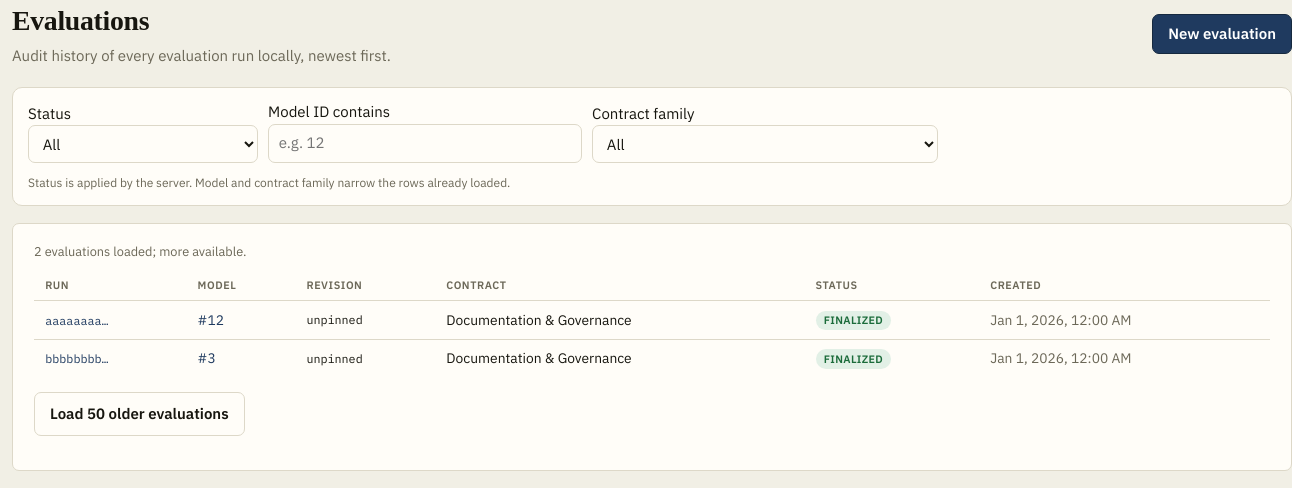
client filters say they cover loaded rows only, and can be cleared
The width and height of the screenshot is (1292, 488).
Expected: the text "2 evaluations loaded; more available." is shown, [34, 243, 246, 260]
Type "99" into the field labelled "Model ID contains" at (425, 143), box [268, 124, 582, 163]
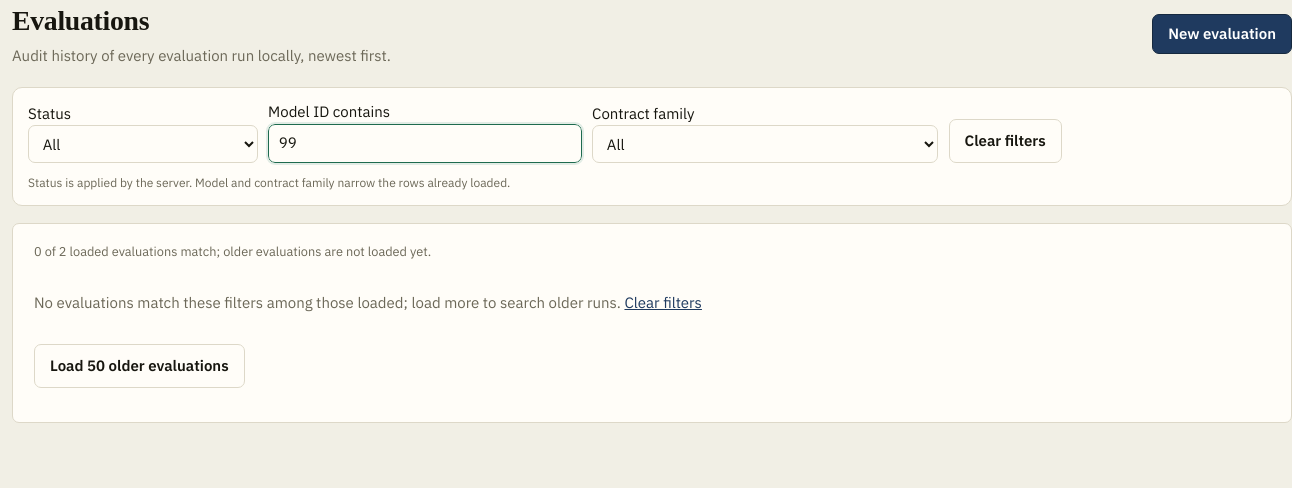
Expected: the text "0 of 2 loaded evaluations match; older evaluations are not loaded yet." is shown, [34, 243, 431, 260]
Click the 1st button "Clear filters" at (1005, 141), box [948, 119, 1062, 163]
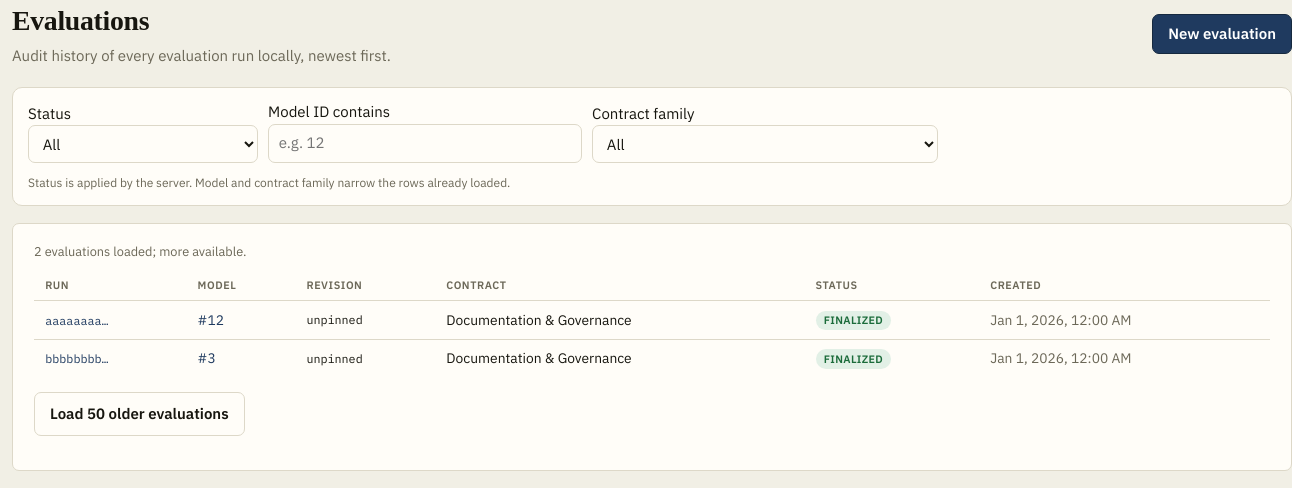
Expected: the text "2 evaluations loaded; more available." is shown, [34, 243, 246, 260]
